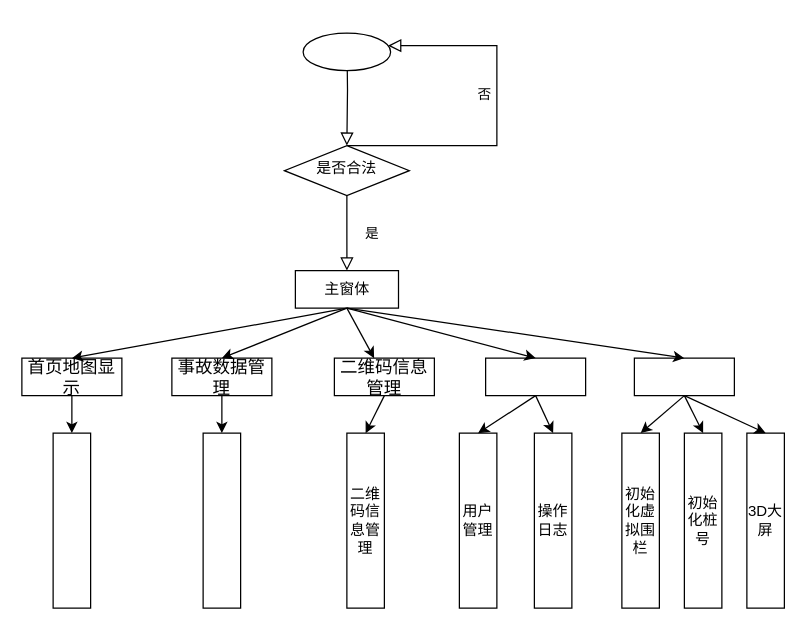
This 806x630 diagram has some shape labels left out. Here are the shapes that lost their labels. From the top down, the centre of each, then its label:
At point (346, 51): "身份识别".
At point (535, 376): "系统管理".
At point (683, 376): "初始化工具".
At point (71, 520): "地图显示".
At point (221, 520): "上报信息管理".
